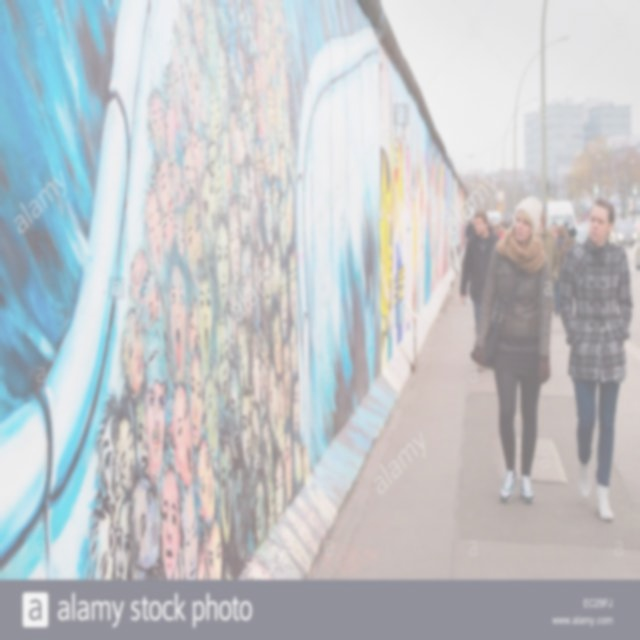pessoa: (86, 0, 313, 579), (469, 195, 554, 504), (558, 195, 634, 522), (459, 208, 502, 372), (538, 204, 560, 314), (559, 242, 580, 312), (553, 224, 568, 317), (490, 228, 510, 284), (488, 219, 514, 236), (466, 218, 476, 239), (551, 221, 560, 241), (564, 221, 570, 233)
